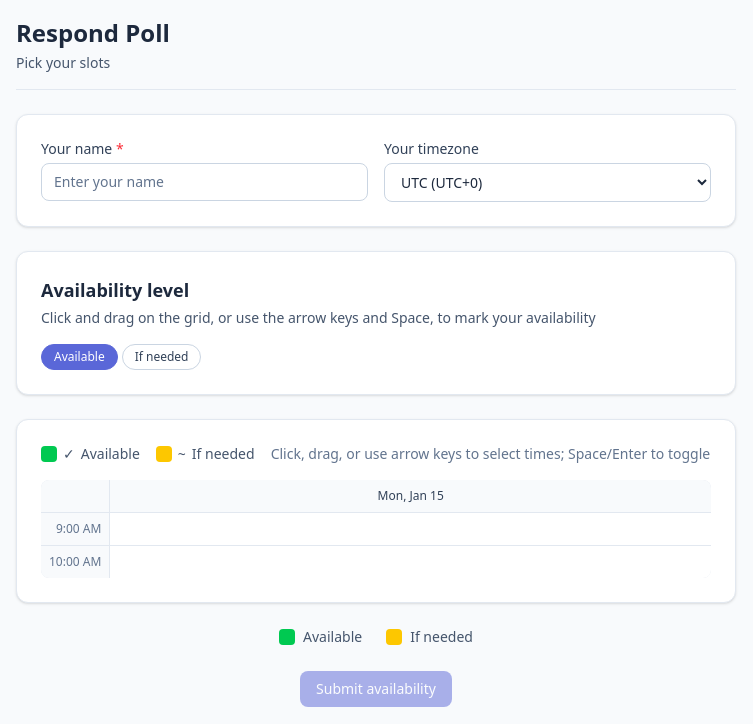
PollRespond - open poll form › selecting a grid slot marks it as available
Check: the heading "Respond Poll" is shown, box 16,16 -> 170,49
Press the mouse on the button named "9:00 AM on Mon, Jan 15: not selected": [411, 529] box 110,513 -> 711,545
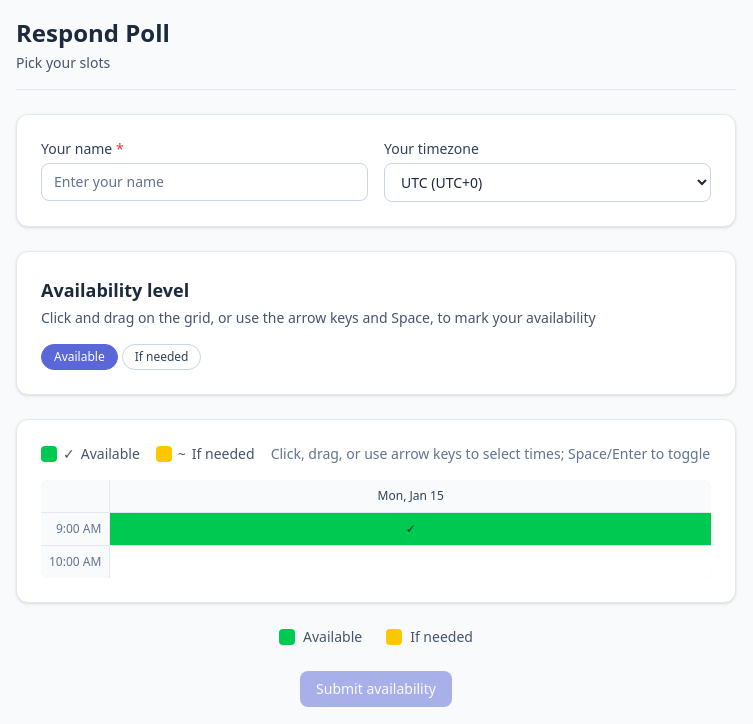
Check: the button labelled "✓" is shown, box 110,513 -> 711,545
